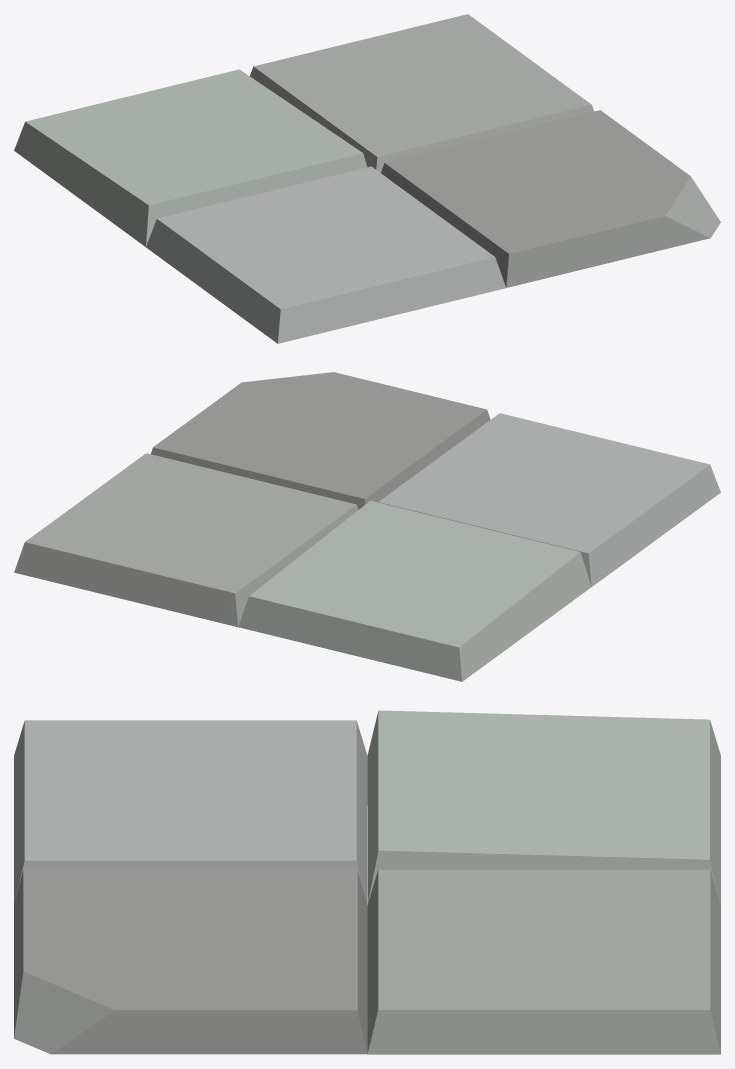
File: Rock_Tiles_m_03.fbx
3 renders of one model, top to bottom at view 1: azimuth 30°, elevation 25°; view 2: azimuth 150°, elevation 25°; view 3: azimuth 270°, elevation 25°, orthographic. The views are drawn at different scales.
Parts seen in each view (by area): view 1: Rock_Tiles_m_03; view 2: Rock_Tiles_m_03; view 3: Rock_Tiles_m_03.
Part boxes in pixels (x1=…): Rock_Tiles_m_03: x1=14, y1=14, x2=720, y2=343; Rock_Tiles_m_03: x1=14, y1=372, x2=720, y2=681; Rock_Tiles_m_03: x1=14, y1=710, x2=720, y2=1054.
Bounding box in the file's own units: 80 × 6.24 × 80.
